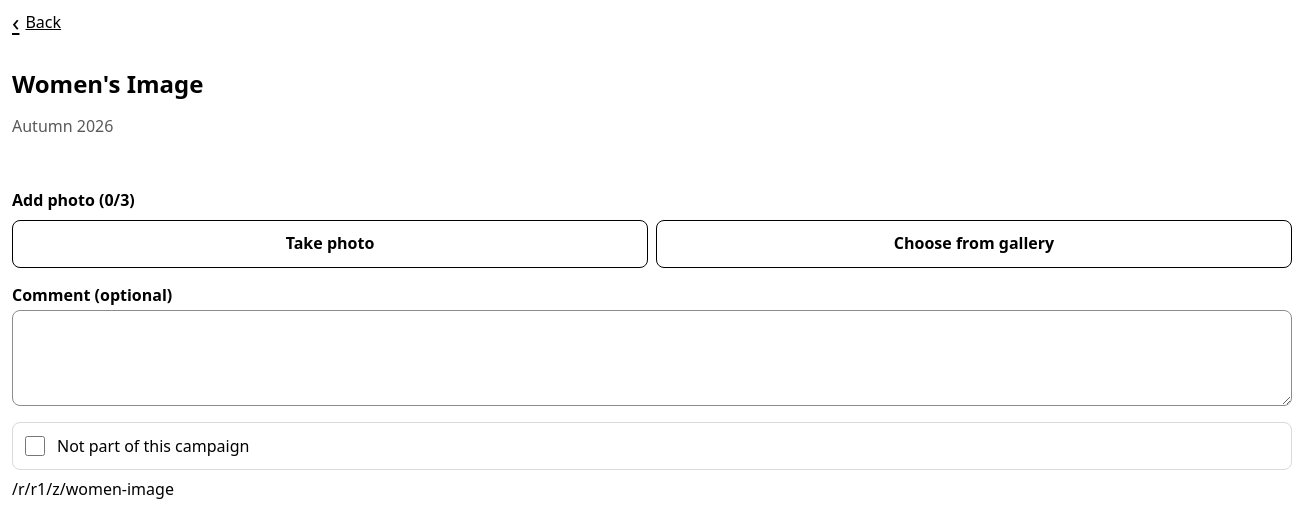
Scenario: DraftZonePage: comment auto-save › saves 800 ms after the last keystroke, once, with the text so far
Type "P" into the text box labelled "Comment (optional)" at {"x": 652, "y": 358}, box [12,310,1292,406]
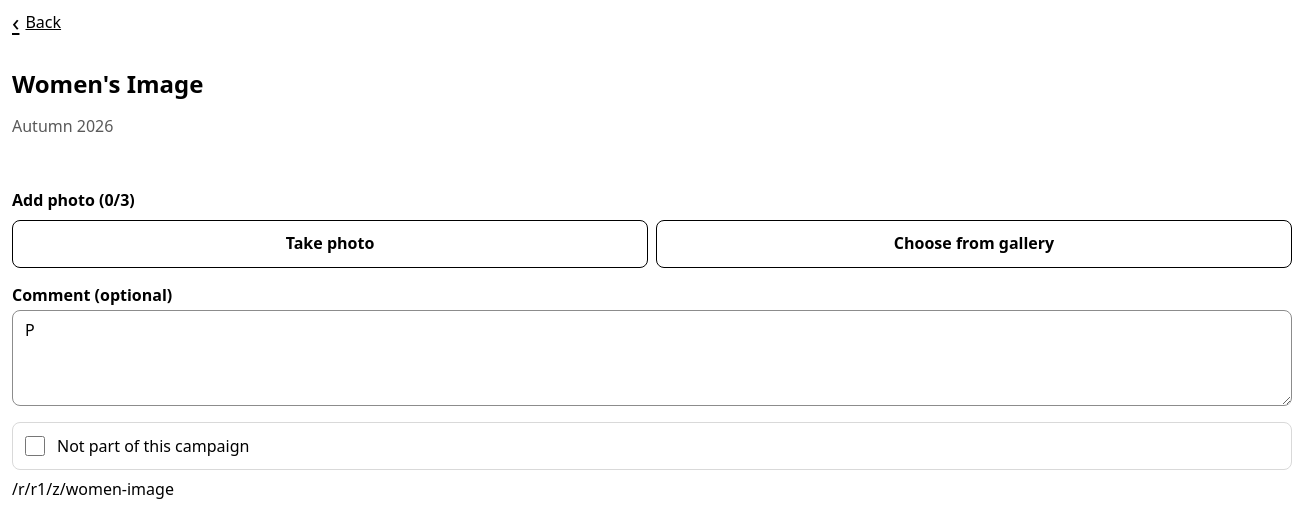
Replace the text in the text box labelled "Comment (optional)" with "Přeskládat" at {"x": 652, "y": 358}, box [12,310,1292,406]
Wait 5800 ms
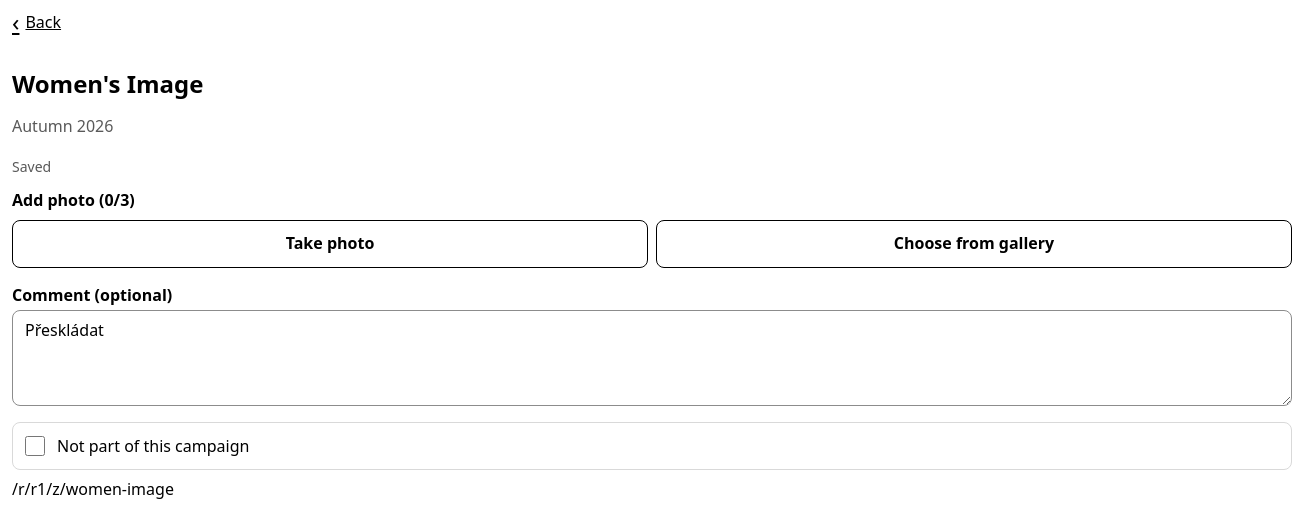
Expected: the text "Saved" is shown, [12,157,51,176]
